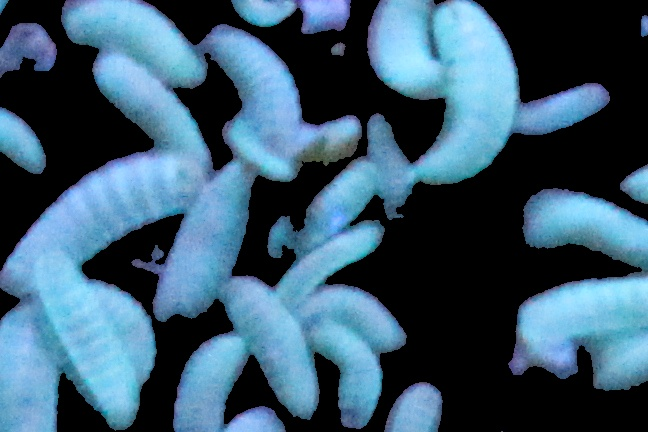larvae: (5, 157, 205, 293), (34, 243, 146, 424), (422, 1, 517, 183), (163, 165, 260, 331), (204, 25, 303, 167), (91, 55, 209, 160), (231, 280, 321, 416), (59, 1, 204, 80), (270, 160, 380, 255), (516, 276, 648, 344), (523, 193, 648, 263), (1, 300, 66, 432), (366, 1, 456, 95), (278, 223, 382, 296), (314, 321, 385, 426), (96, 278, 162, 384), (173, 335, 244, 432), (304, 287, 409, 350), (504, 87, 614, 141), (222, 121, 293, 181), (389, 374, 450, 432), (1, 109, 51, 175)
